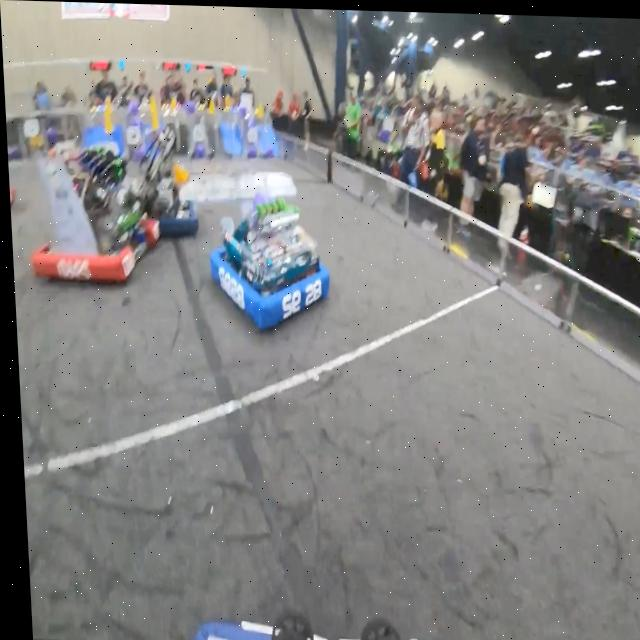robot: (22, 140, 161, 285), (203, 183, 332, 333), (134, 119, 198, 238)
